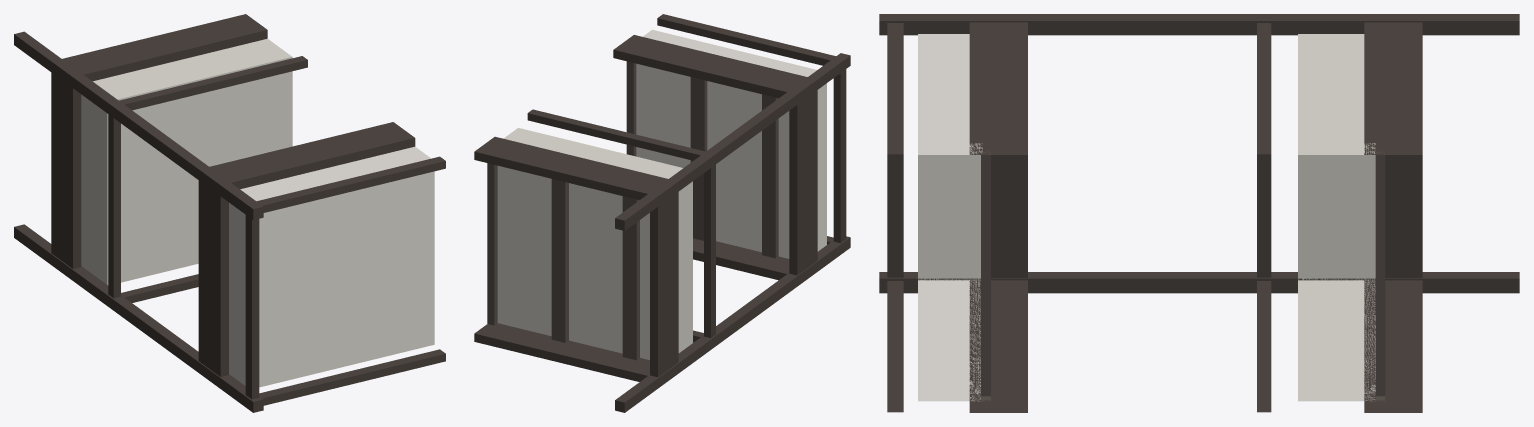
The model's file is section-2.obj.
3 views of the same model, side by side, from view 1: azimuth 30°, elevation 25°; view 2: azimuth 150°, elevation 25°; view 3: azimuth 270°, elevation 25° (orthographic). The views are drawn at different scales.
Size of the model in its own units: 0.935 by 0.93 by 1.98.
Materials: 1 (1 with a texture image).
